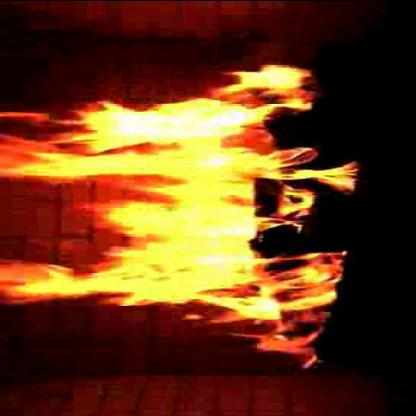Fire: (4, 101, 246, 307)
